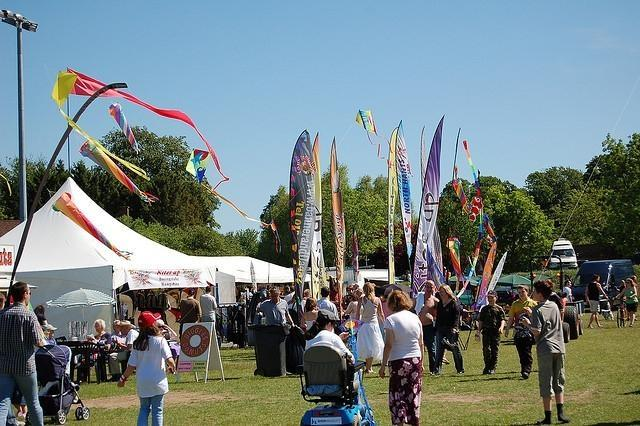truck: (572, 259, 634, 306), (548, 239, 578, 271)
